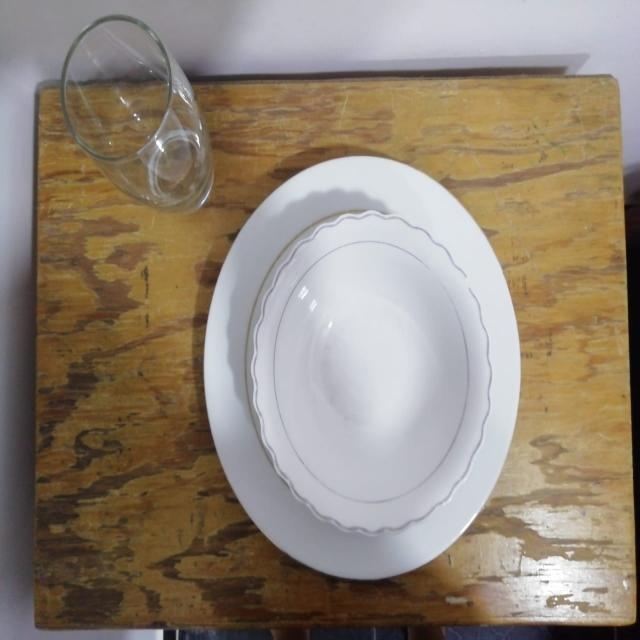non-organic waste: (174, 140, 512, 613), (261, 226, 491, 564)
